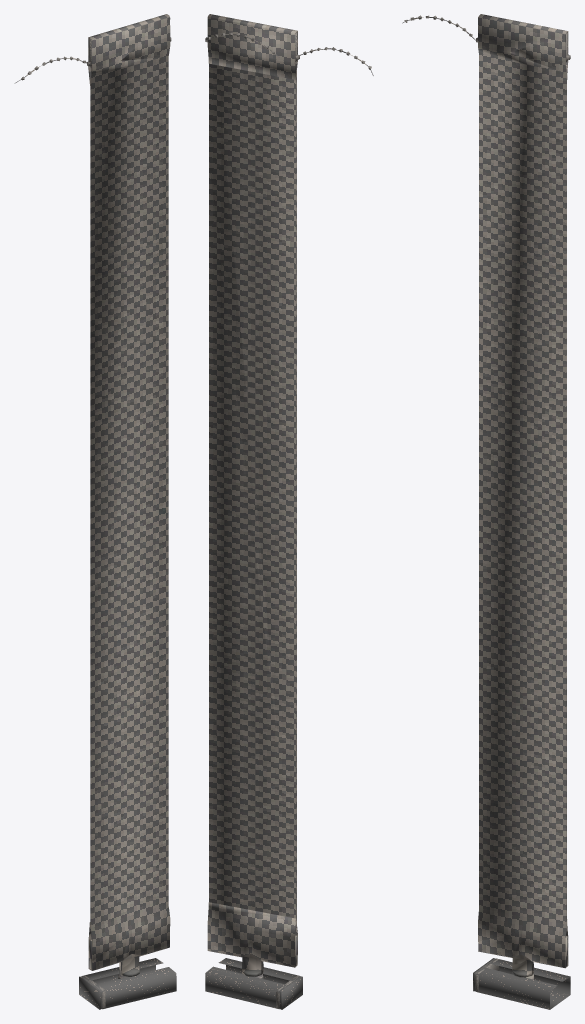
File: curtain.glb
3 views of the same model, side by side, from view 1: azimuth 30°, elevation 25°; view 2: azimuth 150°, elevation 25°; view 3: azimuth 330°, elevation 25° (orthographic).
Parts seen in each view (by area): view 1: curtain; view 2: curtain; view 3: curtain.
Part boxes in pixels (left/top/right/bottom): curtain: left=14, top=14, right=176, bottom=1009; curtain: left=205, top=14, right=373, bottom=1009; curtain: left=402, top=14, right=570, bottom=1009.
Size of the model in its own units: 0.245 by 1.4 by 0.0556.
Materials: 2 (2 with a texture image).
